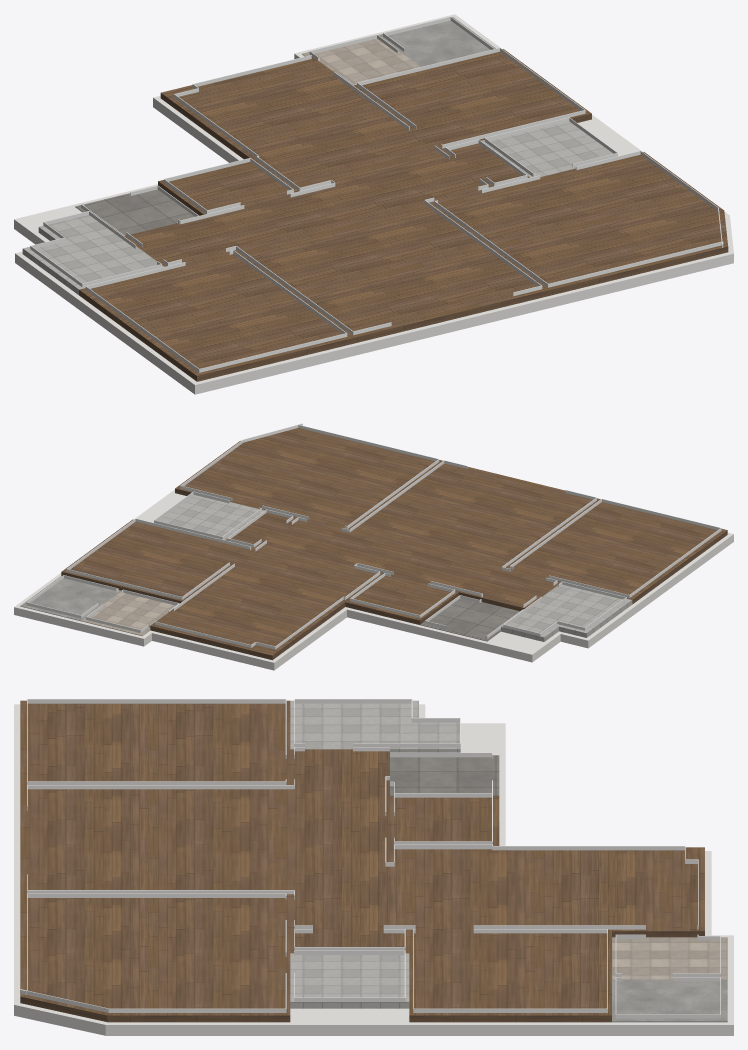
Rendered from floors.glb.
3 renders of one model, top to bottom at view 1: azimuth 30°, elevation 25°; view 2: azimuth 150°, elevation 25°; view 3: azimuth 270°, elevation 25°, orthographic. The views are drawn at different scales.
Parts seen in each view (by area): view 1: floor_bedroom, floor_living_room, floor_kitchen_dining, floor_bedroom_2, slab, floor_hallway, floor_bedroom_3, floor_bathroom, floor_bathroom_master, floor_pantry, floor_entrance, floor_shelter (+11 smaller); view 2: floor_bedroom, floor_living_room, floor_kitchen_dining, floor_bedroom_2, slab, floor_hallway, floor_bedroom_3, floor_bathroom, floor_pantry, floor_bathroom_master, floor_entrance, floor_shelter (+13 smaller); view 3: floor_bedroom, floor_living_room, floor_kitchen_dining, floor_bedroom_2, floor_hallway, floor_bedroom_3, slab, floor_bathroom, floor_bathroom_master, floor_pantry, floor_shelter, floor_balcony (+15 smaller).
Part boxes in pixels (x1=…): floor_bedroom: x1=431, y1=152, x2=728, y2=296; floor_living_room: x1=236, y1=205, x2=547, y2=343; floor_kitchen_dining: x1=160, y1=56, x2=445, y2=191; floor_bedroom_2: x1=79, y1=253, x2=352, y2=381; slab: x1=14, y1=14, x2=733, y2=394; floor_hallway: x1=124, y1=157, x2=490, y2=266; floor_bedroom_3: x1=353, y1=49, x2=591, y2=150; floor_bathroom: x1=22, y1=215, x2=164, y2=294; floor_bathroom_master: x1=481, y1=121, x2=613, y2=177; floor_pantry: x1=158, y1=162, x2=296, y2=215; floor_entrance: x1=75, y1=189, x2=194, y2=235; floor_shelter: x1=378, y1=17, x2=495, y2=66; floor_bedroom: x1=175, y1=428, x2=442, y2=529; floor_living_room: x1=351, y1=463, x2=600, y2=568; floor_kitchen_dining: x1=150, y1=545, x2=382, y2=660; floor_bedroom_2: x1=508, y1=502, x2=727, y2=604; slab: x1=14, y1=489, x2=733, y2=670; floor_hallway: x1=265, y1=520, x2=559, y2=611; floor_bedroom_3: x1=61, y1=519, x2=254, y2=603; floor_bathroom: x1=501, y1=584, x2=632, y2=641; floor_pantry: x1=345, y1=576, x2=458, y2=624; floor_bathroom_master: x1=158, y1=494, x2=264, y2=540; floor_entrance: x1=420, y1=598, x2=519, y2=641; floor_shelter: x1=20, y1=576, x2=121, y2=621; floor_bedroom: x1=20, y1=896, x2=290, y2=1022; floor_living_room: x1=20, y1=787, x2=290, y2=895; floor_kitchen_dining: x1=390, y1=847, x2=704, y2=937; floor_bedroom_2: x1=20, y1=700, x2=290, y2=787; floor_hallway: x1=290, y1=749, x2=389, y2=931; floor_bedroom_3: x1=409, y1=931, x2=611, y2=1022; slab: x1=14, y1=704, x2=733, y2=1035; floor_bathroom: x1=290, y1=700, x2=460, y2=752; floor_bathroom_master: x1=290, y1=953, x2=409, y2=1008; floor_pantry: x1=390, y1=795, x2=499, y2=847; floor_shelter: x1=612, y1=979, x2=727, y2=1022; floor_balcony: x1=612, y1=937, x2=727, y2=979.
Size of the model in its own units: 11.8 by 0.37 by 11.2.
7 materials, 5 textured.
